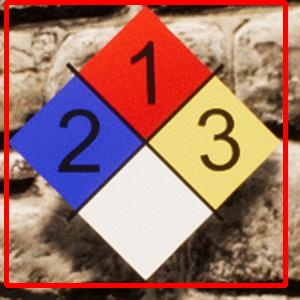nfpa: (6, 2, 285, 285)
